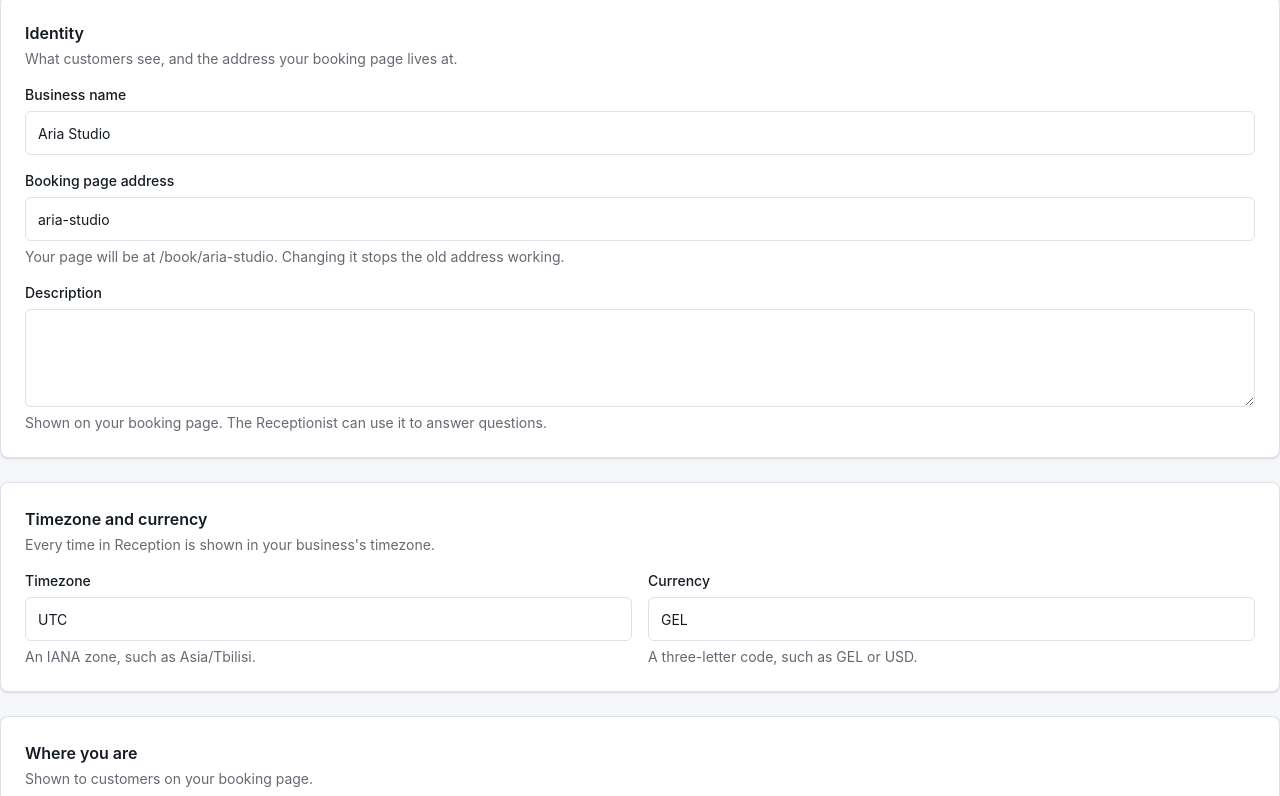
Test: ProfileForm, changing the timezone › asks before saving, and names both zones
Replace the text in the field labelled "Timezone" with "Asia/Tbilisi" at (328, 619), box [25,597,632,641]
(page scrolled)
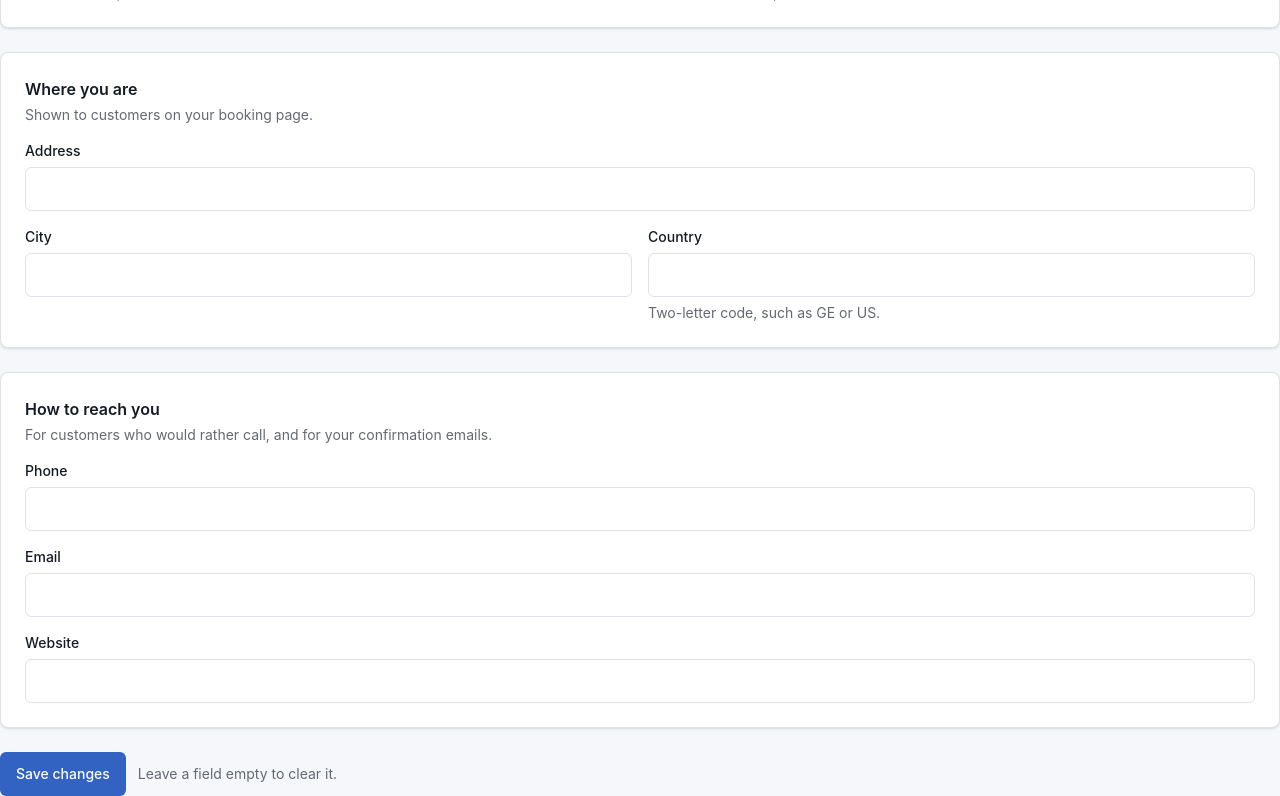
Click the button "Save changes" at (63, 774), box [0,752,126,795]
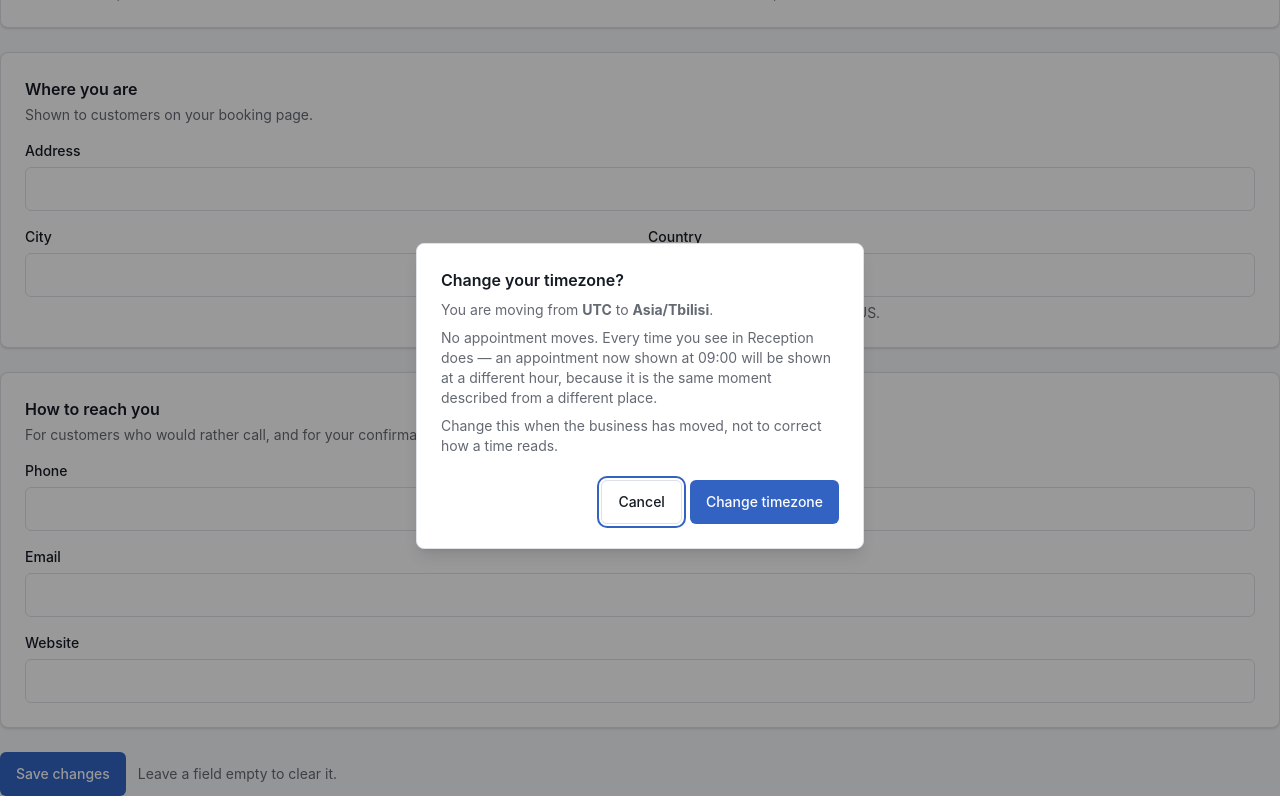
Check: the text "Change your timezone?" is shown, box [441,270,624,290]
Check: the text "Change your timezone?" shows "UTC", box [582,301,612,318]
Check: the text "Change your timezone?" shows "Asia/Tbilisi", box [632,301,709,318]
